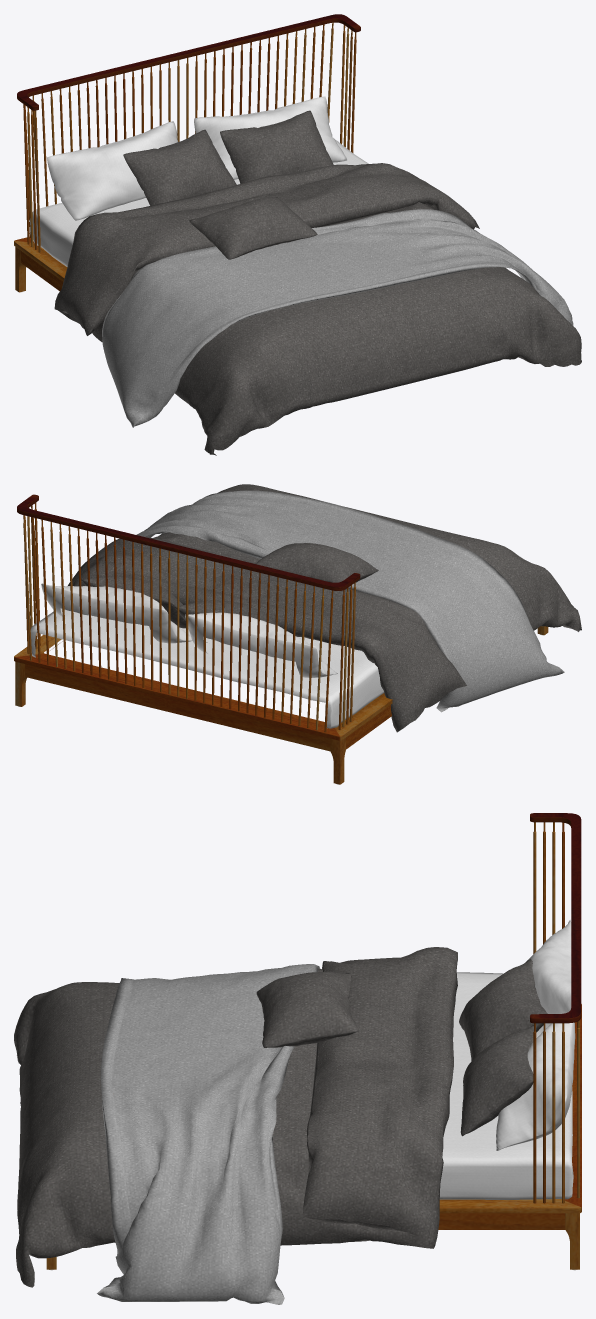
3 renders of one model, top to bottom at view 1: azimuth 30°, elevation 25°; view 2: azimuth 150°, elevation 25°; view 3: azimuth 270°, elevation 25°, orthographic. The views are drawn at different scales.
Parts seen in each view (by area): view 1: bed_03_02; view 2: bed_03_02; view 3: bed_03_02.
Boxes of the visible parts, bbox=[...] form: bed_03_02: bbox=[14, 14, 581, 455]; bed_03_02: bbox=[14, 484, 581, 784]; bed_03_02: bbox=[14, 813, 581, 1304].
Size of the model in its own units: 2.58 by 1.11 by 2.26.
Materials: 1 (1 with a texture image).
